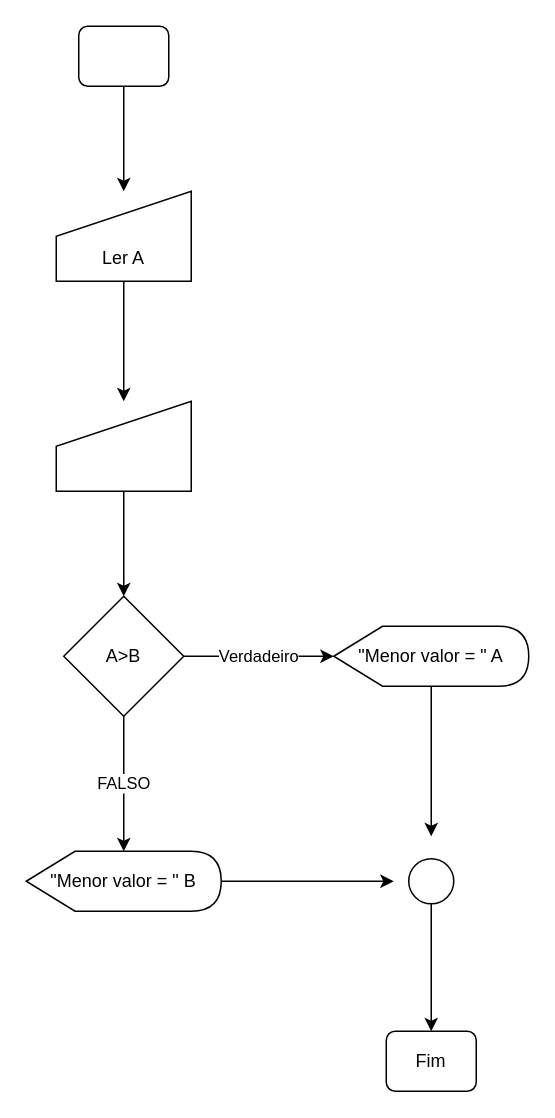
Some shapes in this 555 by 1118 pixel diagram are drawn without their labels. Each missing label, with the box of its shape:
Início: (77, 25, 169, 86)
Ler B: (55, 400, 191, 491)
